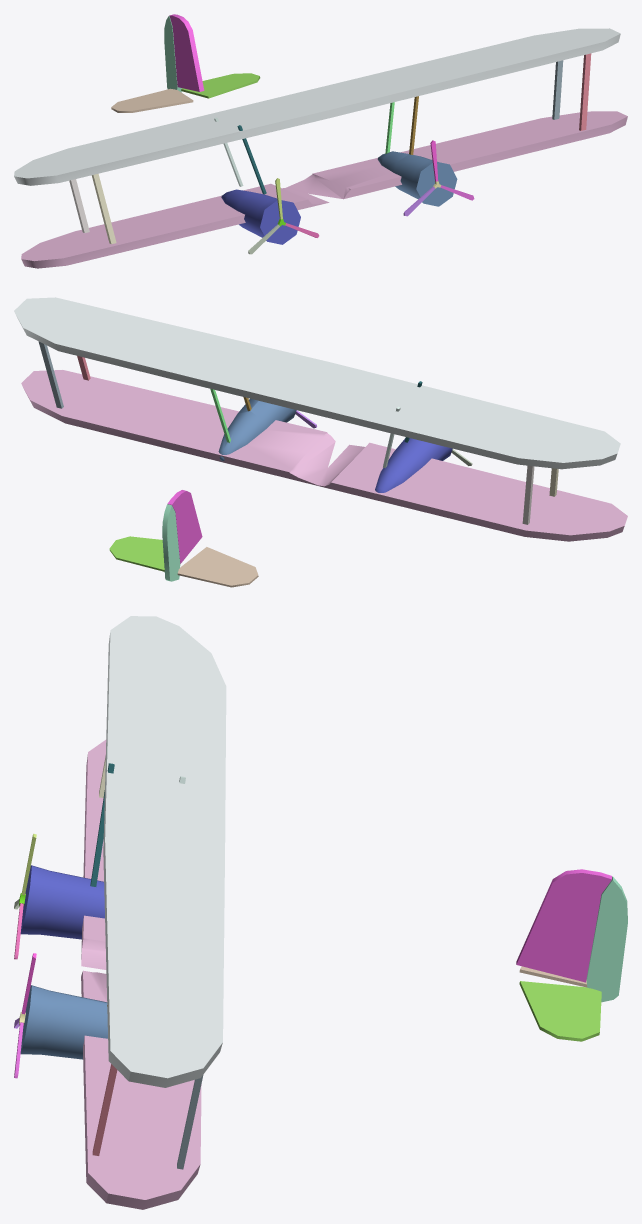
The picture shows the model from 3 angles, top to bottom: view 1: azimuth 30°, elevation 25°; view 2: azimuth 150°, elevation 25°; view 3: azimuth 270°, elevation 25°; orthographic projection. The views are drawn at different scales.
Parts seen in each view (by area): view 1: split_parent_16, Object_58, Object_46, split_parent_13, Object_40, Object_28, Object_4, Object_31, Object_19, Object_10, Object_16, Object_13; view 2: split_parent_16, Object_58, Object_28, Object_46, split_parent_13, Object_4, Object_40, Object_31, Object_16, Object_13; view 3: split_parent_16, Object_58, Object_40, split_parent_13, Object_46, Object_4, Object_31.
Part boxes in pixels (left/top/right/bottom): split_parent_16: left=14, top=28, right=620, bottom=185; Object_58: left=21, top=111, right=627, bottom=268; Object_46: left=221, top=189, right=300, bottom=244; split_parent_13: left=377, top=151, right=457, bottom=206; Object_40: left=169, top=14, right=204, bottom=91; Object_28: left=111, top=88, right=193, bottom=112; Object_4: left=181, top=73, right=260, bottom=98; Object_31: left=164, top=16, right=181, bottom=92; Object_19: left=579, top=53, right=591, bottom=130; Object_10: left=91, top=173, right=116, bottom=244; Object_16: left=552, top=60, right=563, bottom=119; Object_13: left=69, top=179, right=89, bottom=232; split_parent_16: left=14, top=297, right=620, bottom=469; Object_58: left=21, top=370, right=627, bottom=541; Object_28: left=177, top=547, right=258, bottom=587; Object_46: left=375, top=438, right=452, bottom=492; split_parent_13: left=218, top=398, right=296, bottom=461; Object_4: left=109, top=536, right=164, bottom=571; Object_40: left=167, top=490, right=202, bottom=563; Object_31: left=162, top=504, right=180, bottom=581; Object_16: left=38, top=341, right=63, bottom=408; Object_13: left=522, top=465, right=534, bottom=524; split_parent_16: left=103, top=616, right=226, bottom=1087; Object_58: left=81, top=739, right=201, bottom=1209; Object_40: left=516, top=869, right=611, bottom=982; split_parent_13: left=20, top=985, right=107, bottom=1059; Object_46: left=20, top=865, right=104, bottom=939; Object_4: left=519, top=981, right=601, bottom=1041; Object_31: left=586, top=876, right=627, bottom=1002.
Bounding box in the file's own units: 1 × 0.1719 × 0.564.
